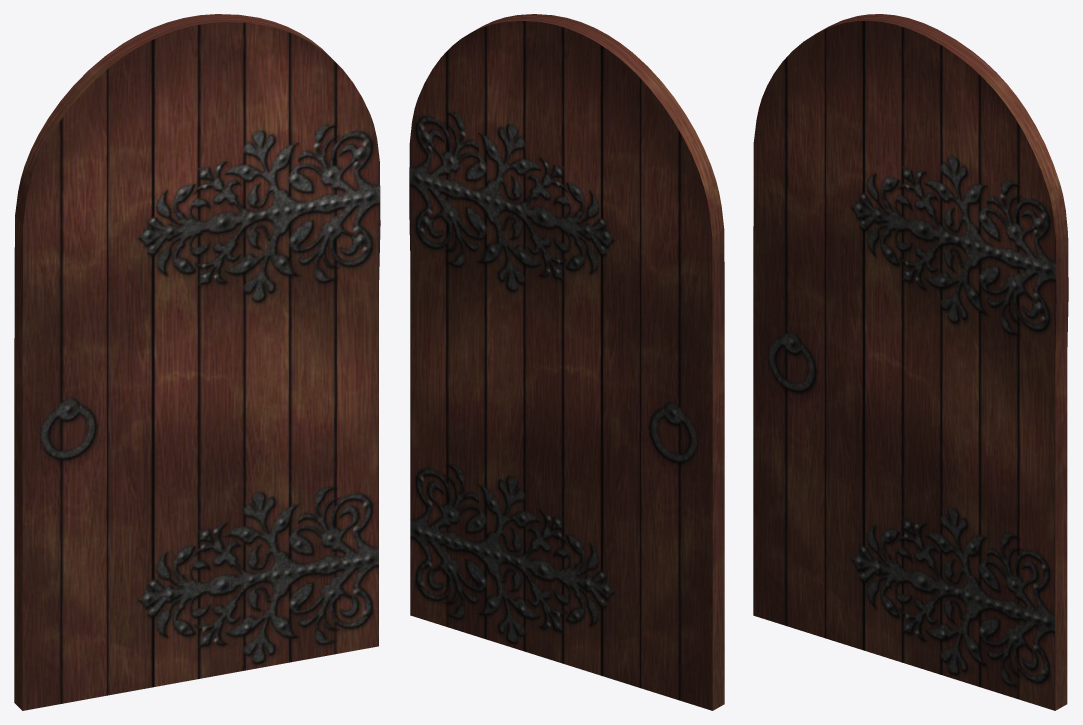
The model's file is door 4.obj.
3 renders of one model, left to right at view 1: azimuth 30°, elevation 25°; view 2: azimuth 150°, elevation 25°; view 3: azimuth 330°, elevation 25°, orthographic. The views are drawn at different scales.
Visible parts, largest first — view 1: door_10:Mesh; view 2: door_10:Mesh; view 3: door_10:Mesh.
Part boxes in pixels (<box>): door_10:Mesh: <box>14,14,380,710</box>; door_10:Mesh: <box>409,14,724,710</box>; door_10:Mesh: <box>753,14,1068,710</box>.
Size of the model in its own units: 64.61 by 120 by 11.05.
1 material, 1 textured.
